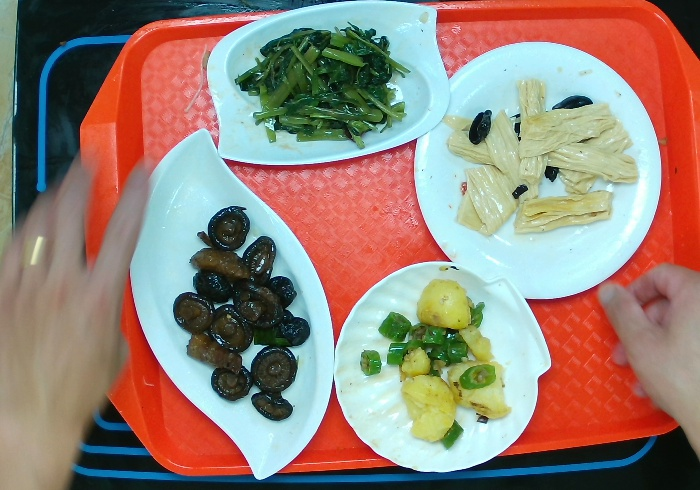RJxy-Bei_Ke_Wan: (334, 251, 556, 471)
RJxy-Jian_Jiao_Fang_Die: (205, 1, 452, 169)
RJxy-Jian_Jiao_Pan: (129, 119, 331, 490)
RJxy-Yuan_Pan: (404, 38, 668, 298)
